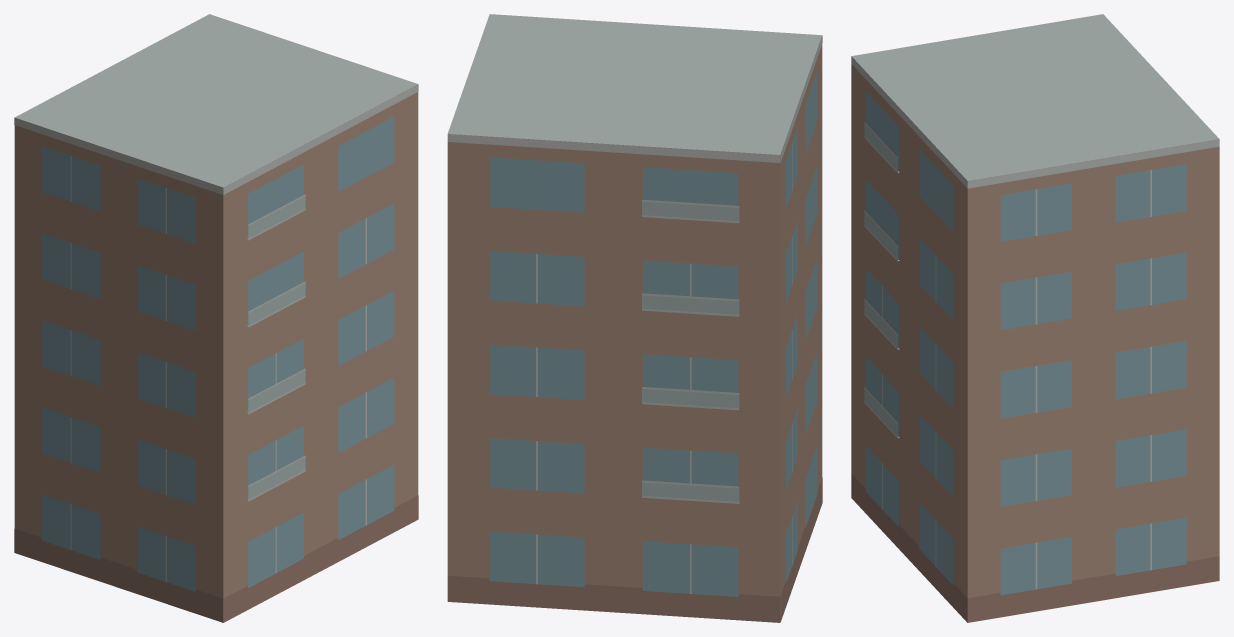
Rendered from survey-upis-32684195.glb.
3 views of the same model, side by side, from view 1: azimuth 30°, elevation 25°; view 2: azimuth 150°, elevation 25°; view 3: azimuth 270°, elevation 25° (orthographic). The views are drawn at different scales.
Parts seen in each view (by area): view 1: survey-upis-32684195.tmp; view 2: survey-upis-32684195.tmp; view 3: survey-upis-32684195.tmp.
Part boxes in pixels (x1,y1,x2,y2): survey-upis-32684195.tmp: (14, 14, 418, 622); survey-upis-32684195.tmp: (447, 14, 822, 622); survey-upis-32684195.tmp: (851, 14, 1219, 622).
Size of the model in its own units: 11.52 by 14.2 by 10.73.
